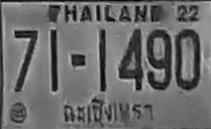0: (174, 28, 200, 90)
1: (98, 28, 107, 90), (50, 30, 57, 90)
4: (118, 27, 143, 90)
7: (13, 29, 38, 92)
9: (146, 29, 171, 90)
CCO: (58, 95, 157, 129)
